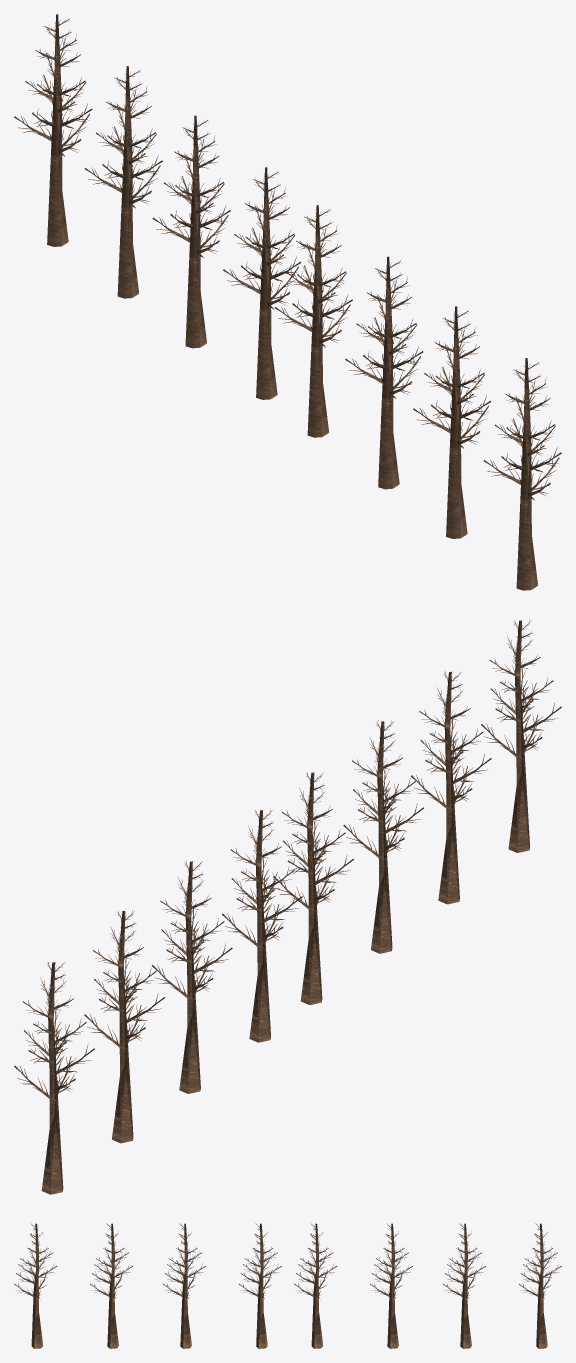
The model's file is arbre_mort 1.fbx.
3 renders of one model, top to bottom at view 1: azimuth 30°, elevation 25°; view 2: azimuth 150°, elevation 25°; view 3: azimuth 270°, elevation 25°, orthographic. The views are drawn at different scales.
Parts seen in each view (by area): view 1: Birch_01_grp1_Trunk_01_geo.053, Birch_01_grp1_Trunk_01_geo.048, Birch_01_grp1_Trunk_01_geo.051, Birch_01_grp1_Trunk_01_geo.034, Birch_01_grp1_Trunk_01_geo.049, Birch_01_grp1_Trunk_01_geo.052, Birch_01_grp1_Trunk_01_geo.033, Birch_01_grp1_Trunk_01_geo.050; view 2: Birch_01_grp1_Trunk_01_geo.048, Birch_01_grp1_Trunk_01_geo.051, Birch_01_grp1_Trunk_01_geo.050, Birch_01_grp1_Trunk_01_geo.049, Birch_01_grp1_Trunk_01_geo.052, Birch_01_grp1_Trunk_01_geo.034, Birch_01_grp1_Trunk_01_geo.053, Birch_01_grp1_Trunk_01_geo.033; view 3: Birch_01_grp1_Trunk_01_geo.048, Birch_01_grp1_Trunk_01_geo.049, Birch_01_grp1_Trunk_01_geo.051, Birch_01_grp1_Trunk_01_geo.050, Birch_01_grp1_Trunk_01_geo.034, Birch_01_grp1_Trunk_01_geo.052, Birch_01_grp1_Trunk_01_geo.053, Birch_01_grp1_Trunk_01_geo.033.
Boxes of the visible parts, x1,y1,x2,y2 form: Birch_01_grp1_Trunk_01_geo.053: (483, 358, 561, 590); Birch_01_grp1_Trunk_01_geo.048: (14, 14, 92, 246); Birch_01_grp1_Trunk_01_geo.051: (275, 205, 352, 437); Birch_01_grp1_Trunk_01_geo.034: (152, 115, 230, 348); Birch_01_grp1_Trunk_01_geo.049: (85, 66, 162, 298); Birch_01_grp1_Trunk_01_geo.052: (413, 306, 491, 538); Birch_01_grp1_Trunk_01_geo.033: (223, 167, 301, 399); Birch_01_grp1_Trunk_01_geo.050: (345, 256, 423, 489); Birch_01_grp1_Trunk_01_geo.048: (14, 962, 94, 1194); Birch_01_grp1_Trunk_01_geo.051: (273, 772, 353, 1004); Birch_01_grp1_Trunk_01_geo.050: (343, 720, 423, 953); Birch_01_grp1_Trunk_01_geo.049: (84, 910, 164, 1143); Birch_01_grp1_Trunk_01_geo.052: (410, 671, 491, 904); Birch_01_grp1_Trunk_01_geo.034: (152, 861, 232, 1093); Birch_01_grp1_Trunk_01_geo.053: (481, 619, 561, 852); Birch_01_grp1_Trunk_01_geo.033: (222, 809, 302, 1042); Birch_01_grp1_Trunk_01_geo.048: (519, 1223, 561, 1348); Birch_01_grp1_Trunk_01_geo.049: (443, 1223, 485, 1348); Birch_01_grp1_Trunk_01_geo.051: (238, 1223, 281, 1348); Birch_01_grp1_Trunk_01_geo.050: (163, 1223, 205, 1348); Birch_01_grp1_Trunk_01_geo.034: (370, 1223, 412, 1348); Birch_01_grp1_Trunk_01_geo.052: (90, 1223, 132, 1348); Birch_01_grp1_Trunk_01_geo.053: (14, 1223, 57, 1348); Birch_01_grp1_Trunk_01_geo.033: (294, 1223, 337, 1348).
Size of the model in its own units: 41.59 by 130 by 526.
